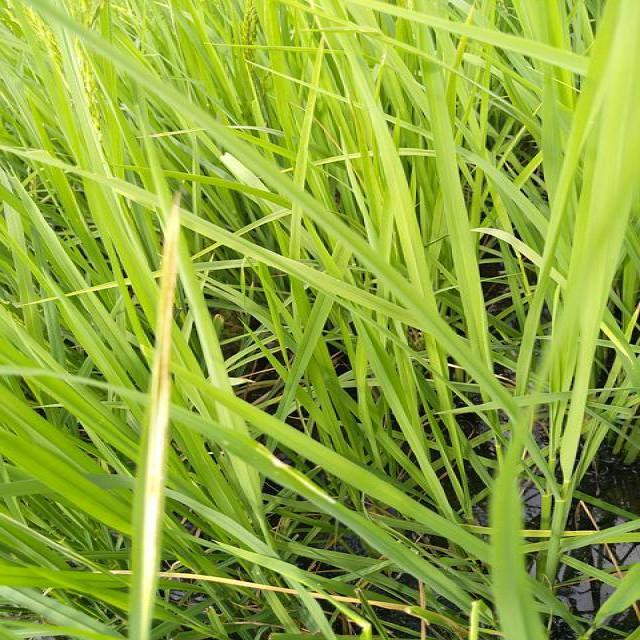Leaf Blight: (128, 192, 183, 639)
